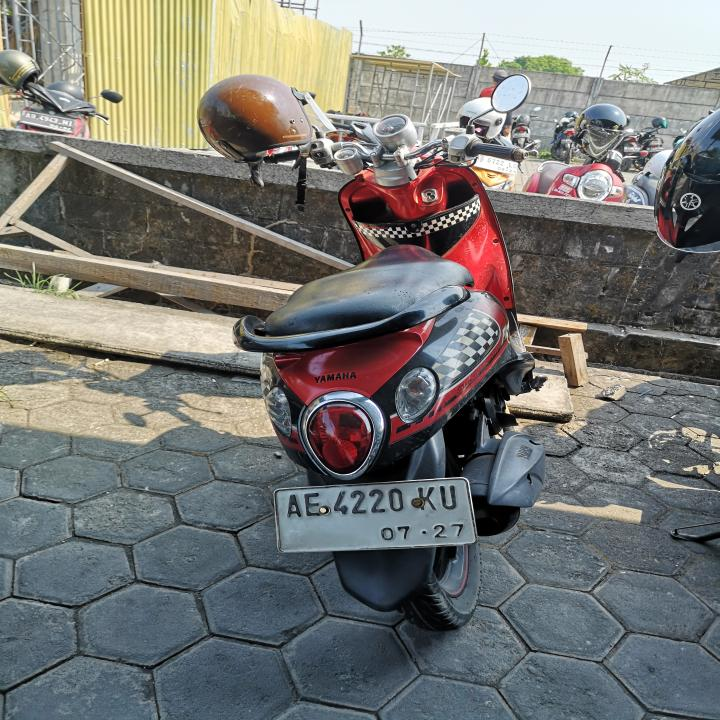plate: (271, 477, 480, 558)
